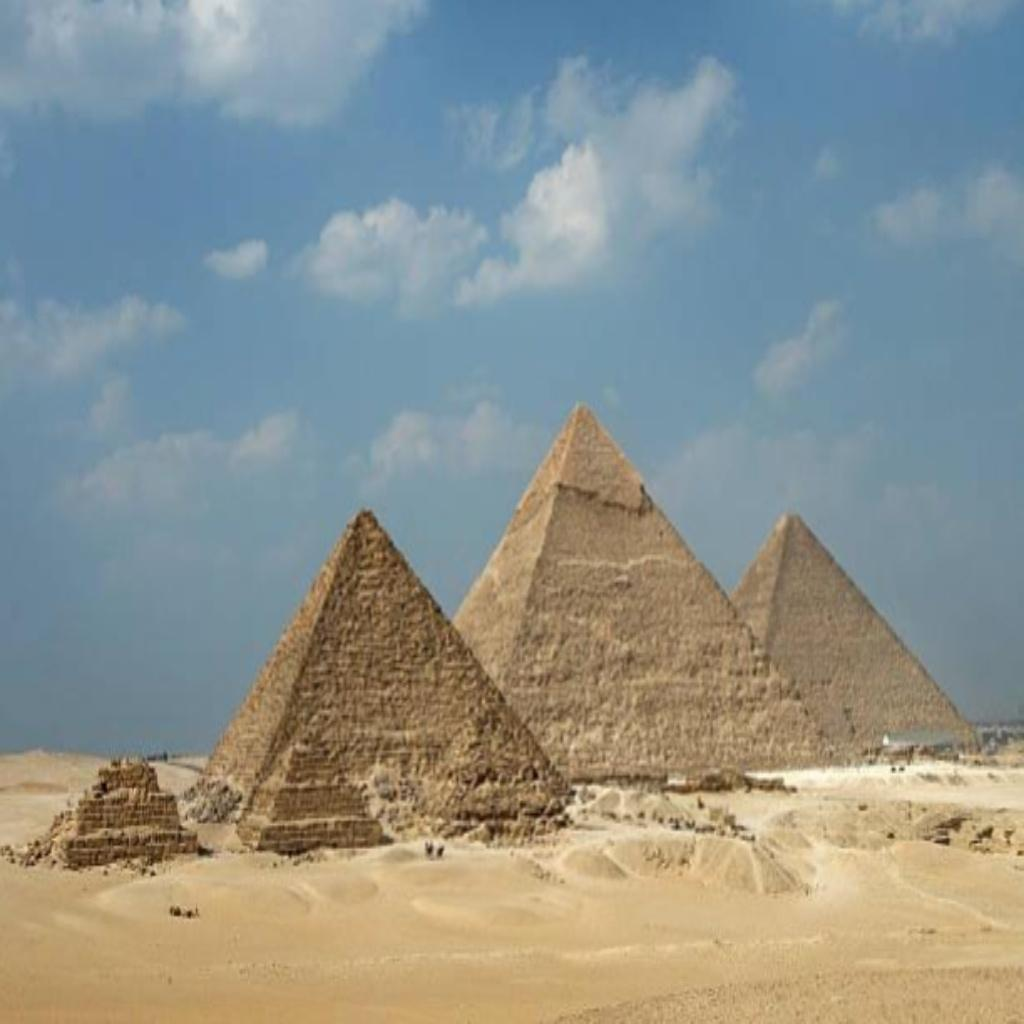Great Pyramids of Giza: (191, 399, 989, 863)
